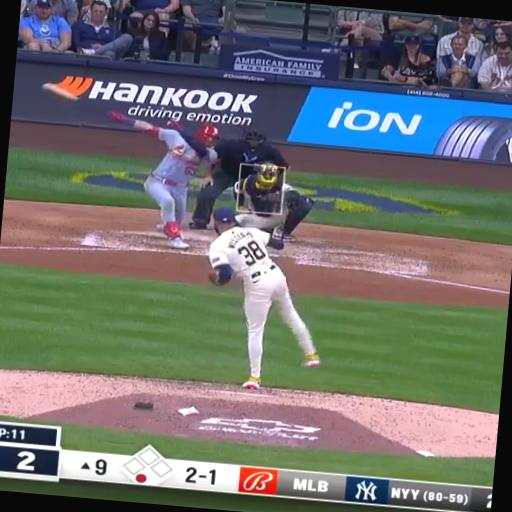bat: (40, 83, 118, 118)
